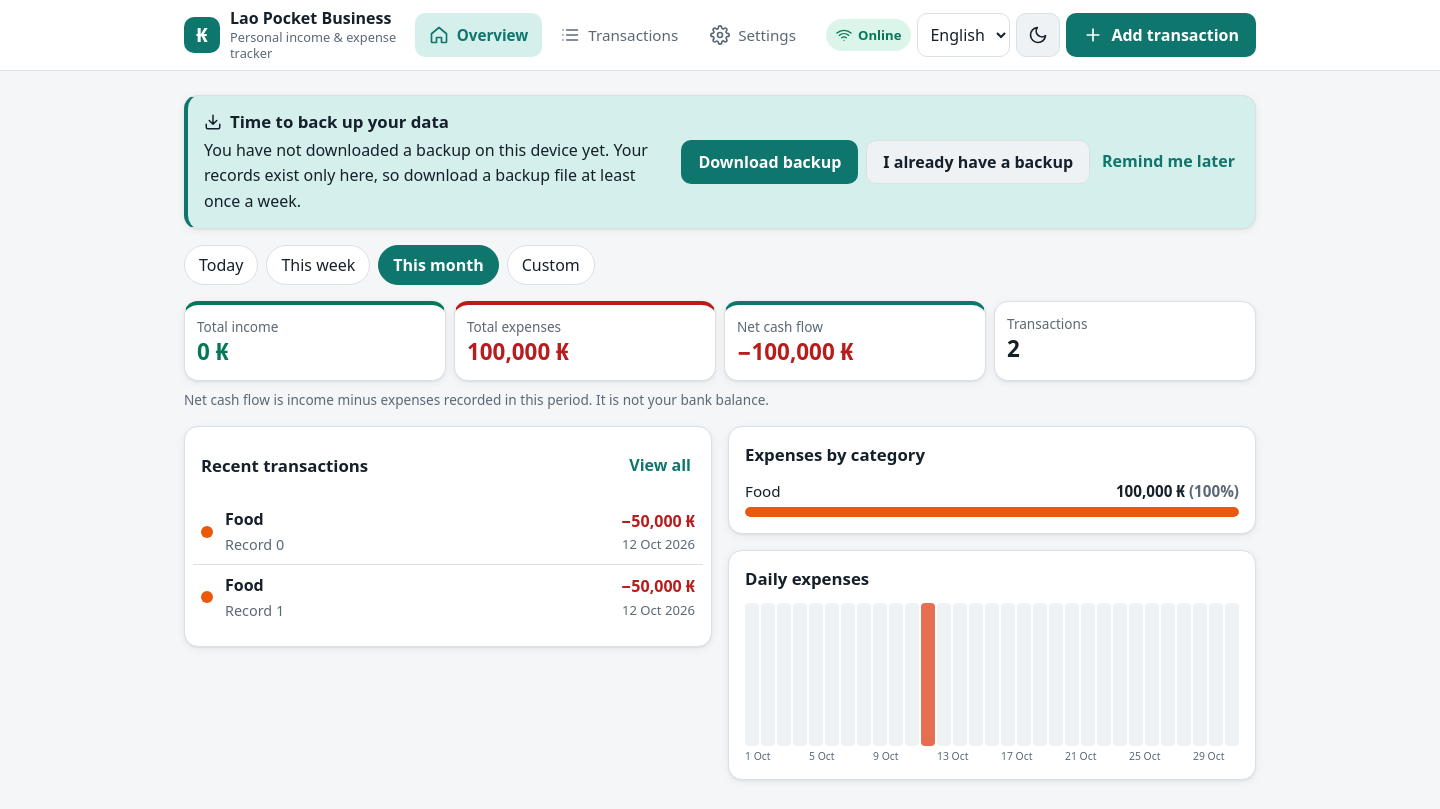
Test case: reminder actions › "I already have a backup" hides it without claiming a backup was made
Click the button "I already have a backup" at (978, 162), box top-left (866, 140), bottom-right (1090, 184)
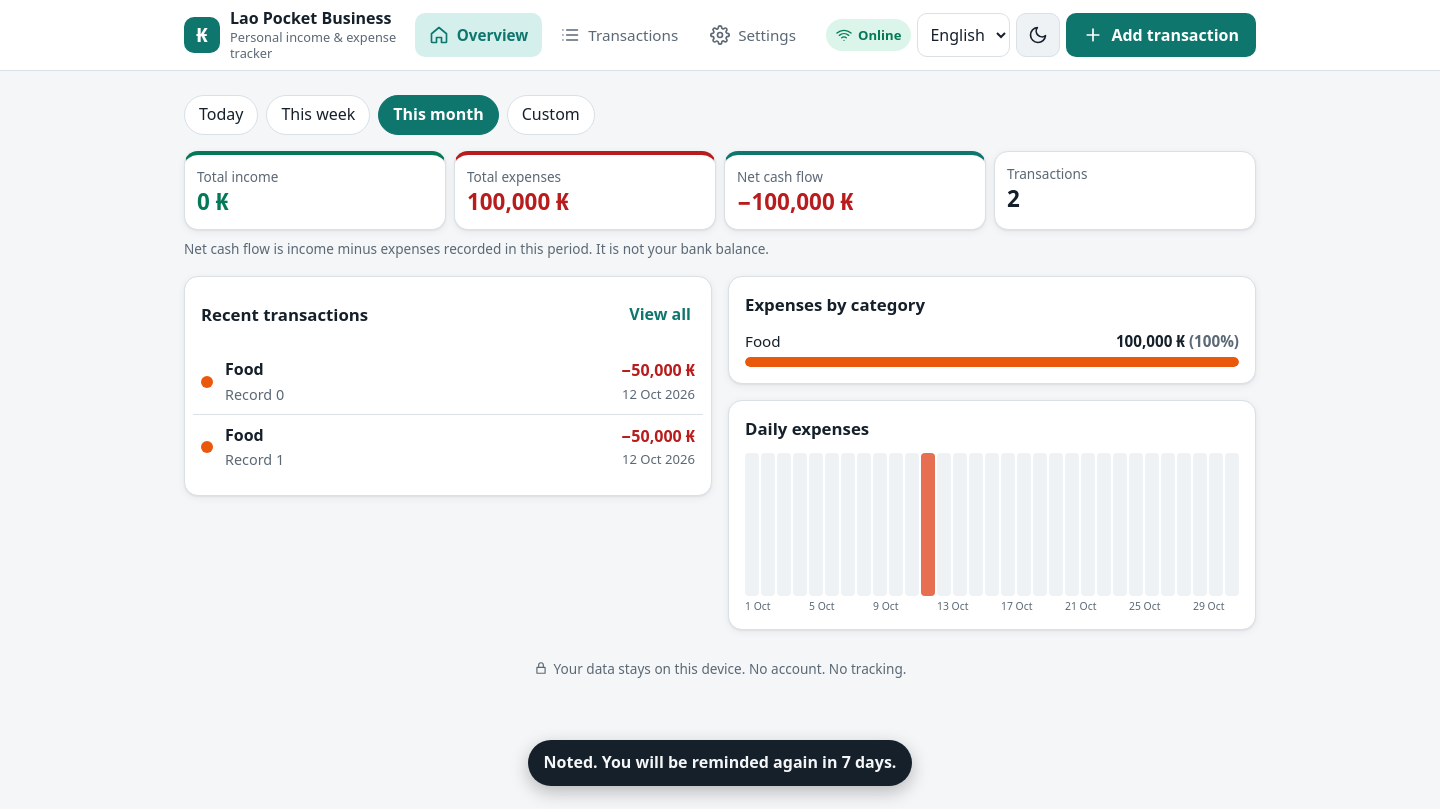
Check: the element with test id "backup-reminder" is gone
Check: the text "Noted. You will be reminded again in 7 days." is shown, box top-left (528, 740), bottom-right (912, 786)
Click the button "Settings" at (753, 35), box top-left (696, 13), bottom-right (810, 57)
(page scrolled)
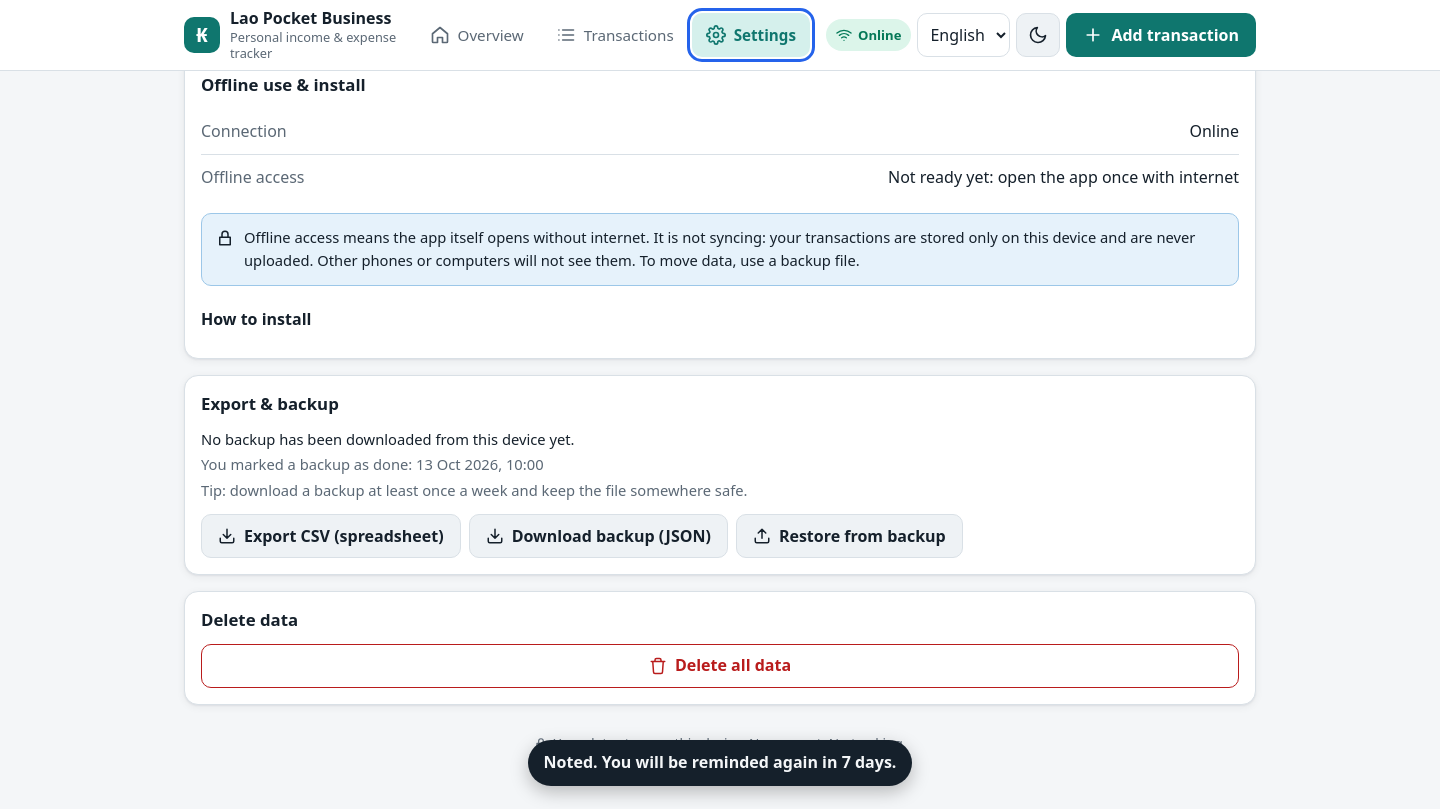
Check: the element with test id "backup-status" shows "No backup has been downloaded from this device yet.", box top-left (201, 428), bottom-right (574, 448)
Check: the element with test id "backup-status" shows "You marked a backup as done: 13 Oct 2026, 10:00", box top-left (201, 454), bottom-right (544, 474)
